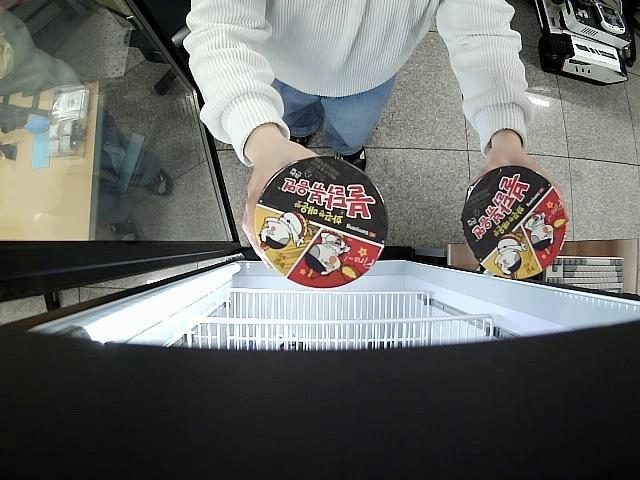07_buldak_L: (254, 157, 389, 290), (462, 168, 567, 277)
